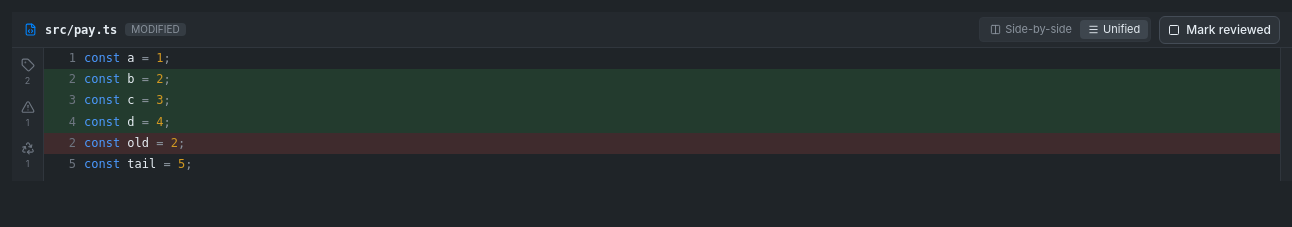
Test: ReviewDiffPane › brings the palette back when the note is abandoned
Click the button with test id "review-tag-rail-tags".
click(28, 73)  # box [14,54,42,92]
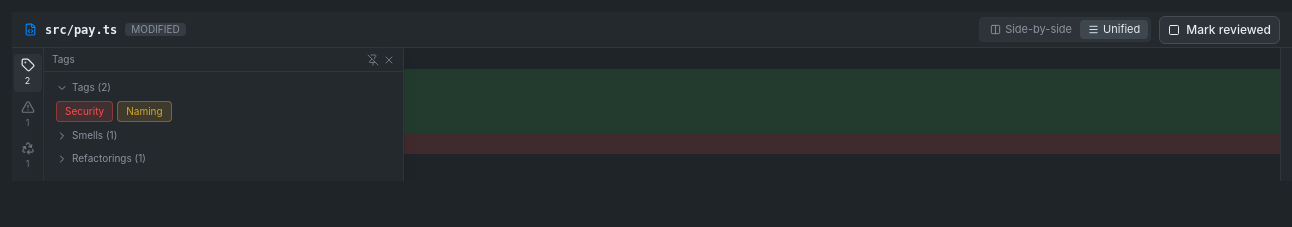
Press the mouse on the button "Security" at (85, 112), box [56,101,113,122]
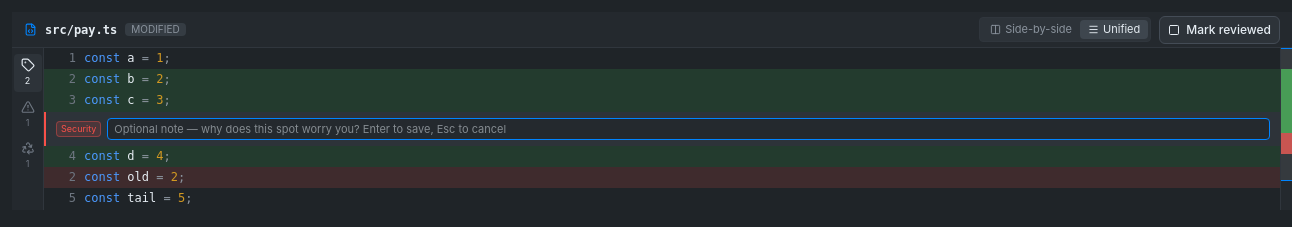
Result: the element with test id "review-tag-flyout" is gone
Press Escape in the field, box [107,118,1270,140]
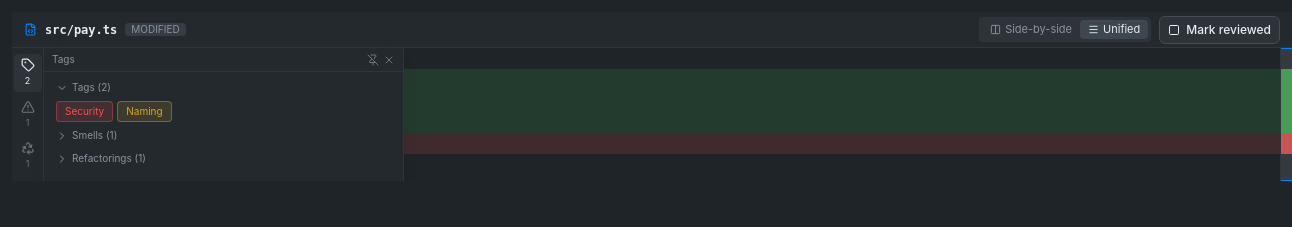
Result: the element with test id "review-tag-flyout" is shown at [44,48,404,180]
